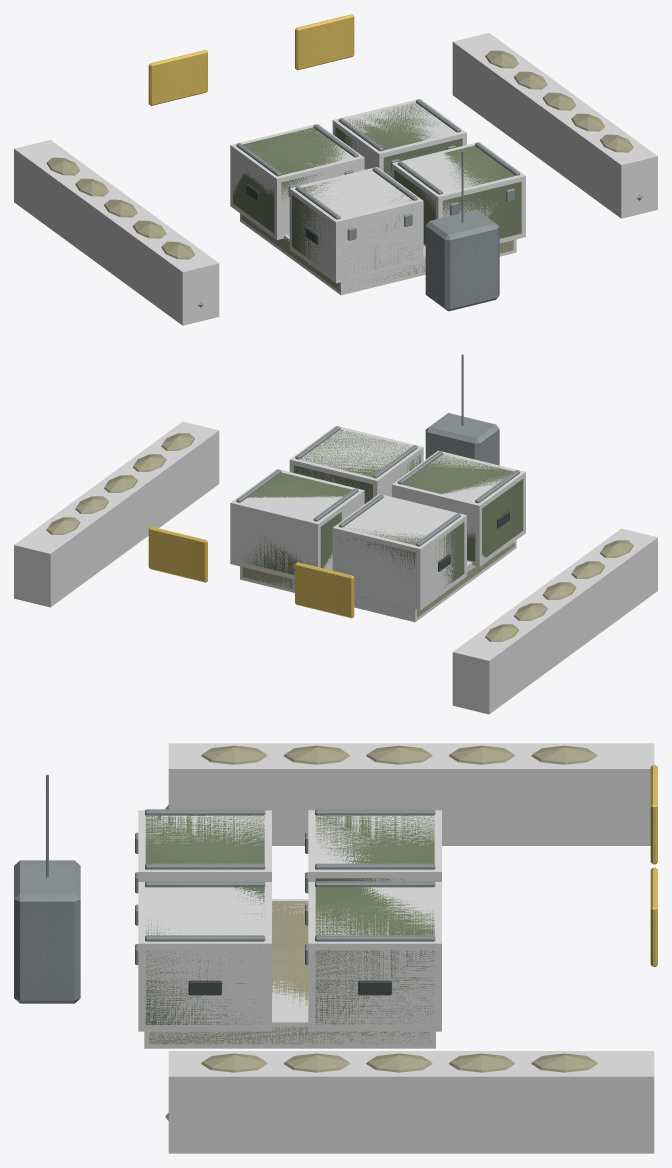
File: BridgeDemolitionKit.fbx
3 views of the same model, one above another, from view 1: azimuth 30°, elevation 25°; view 2: azimuth 150°, elevation 25°; view 3: azimuth 270°, elevation 25° (orthographic). The views are drawn at different scales.
Parts seen in each view (by area): view 1: COL_Static, LOD0; view 2: COL_Static, LOD0; view 3: COL_Static, LOD0.
Part boxes in pixels (box(x1,y1,x2,y2)): COL_Static: box(14, 33, 657, 325); LOD0: box(46, 14, 642, 311); COL_Static: box(14, 421, 657, 714); LOD0: box(46, 354, 633, 642); COL_Static: box(138, 743, 654, 1153); LOD0: box(14, 745, 657, 1120).
Size of what is drawn, in the model's own units: 650 by 193 by 531.
